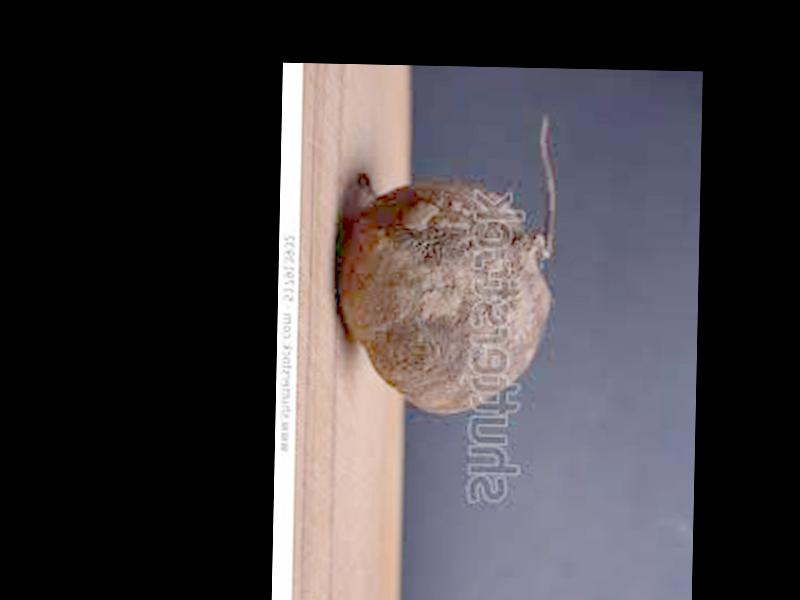Beet: (337, 107, 558, 414)
